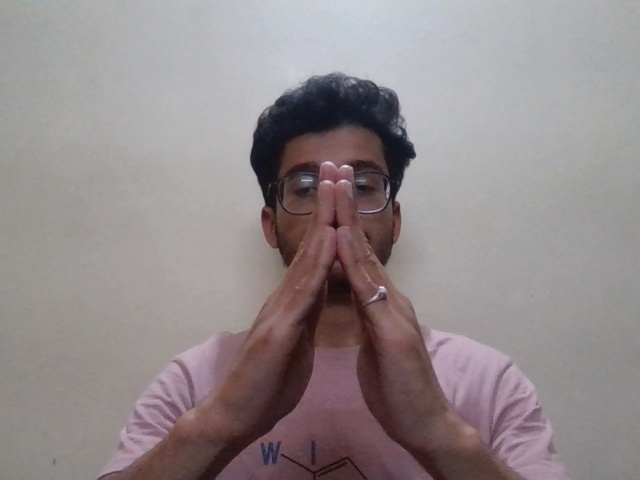home: (235, 159, 465, 443)
